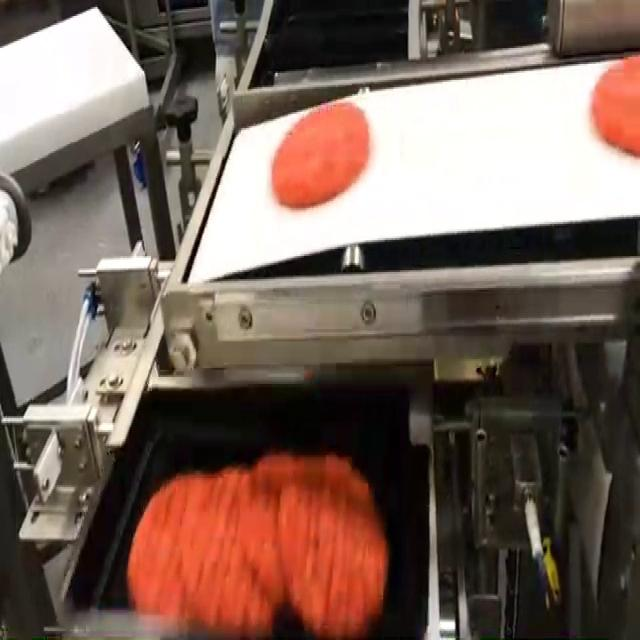4-hamburguer: (128, 453, 388, 636)
hamburguer: (271, 103, 369, 208)
